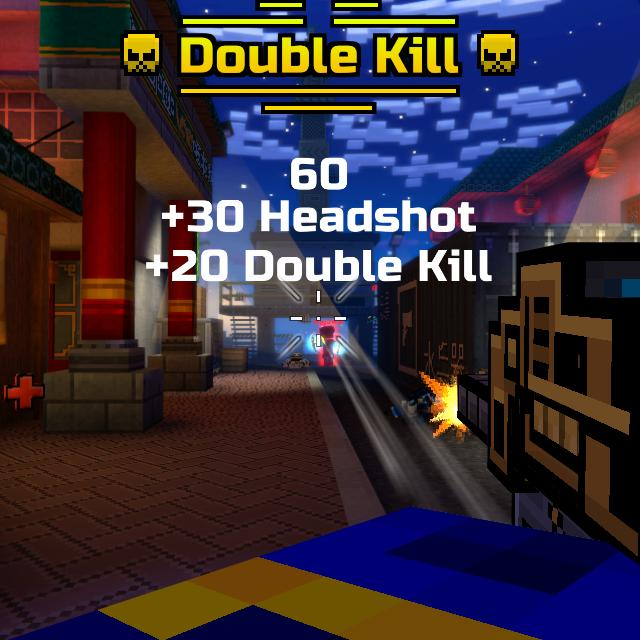Enemy: (316, 327, 339, 367)
